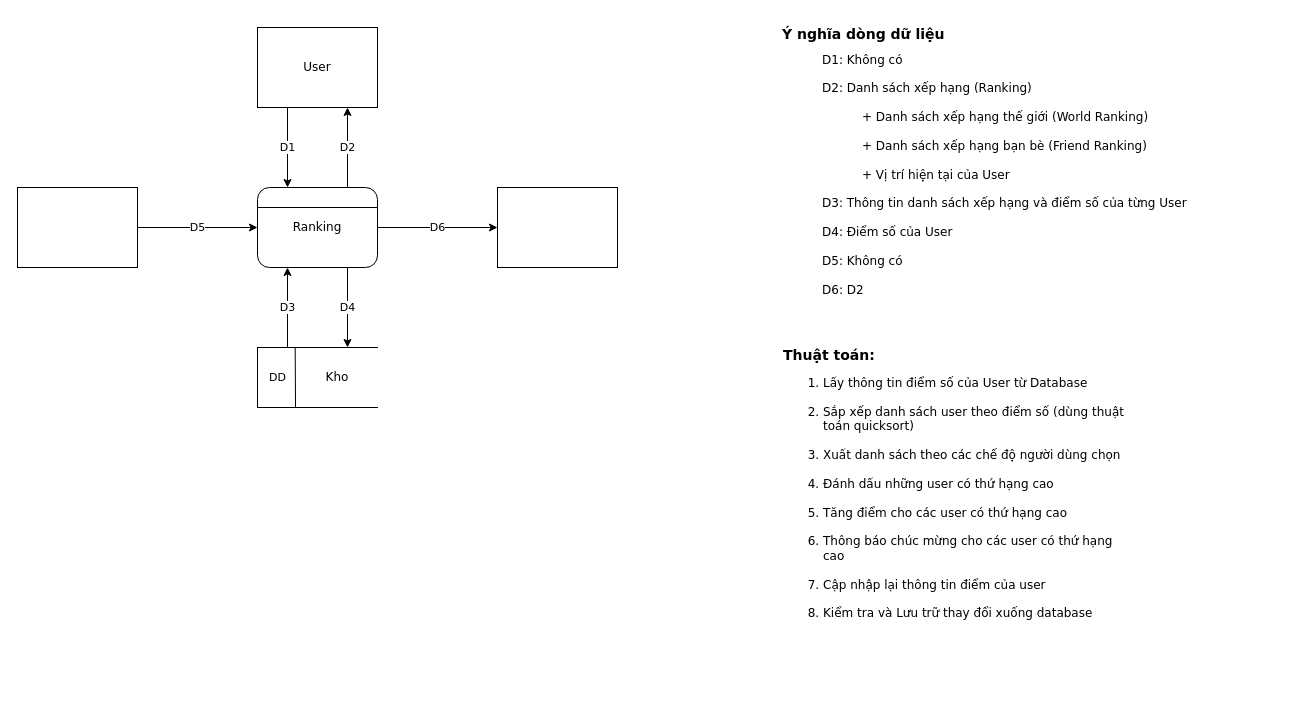
The diagram is 1315 pixels wide and 724 high, and some of its shapes have lost their labels. The shapes that lost their labels are listed below. From the top down, each one's centre as x and y in pixels, then its label:
point 77,227: Thiết bị nhập
point 557,227: Thiết bị xuất
